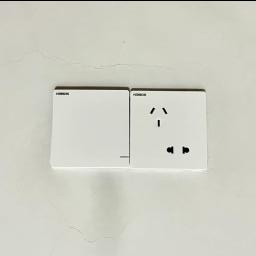outlet: (129, 87, 214, 171)
